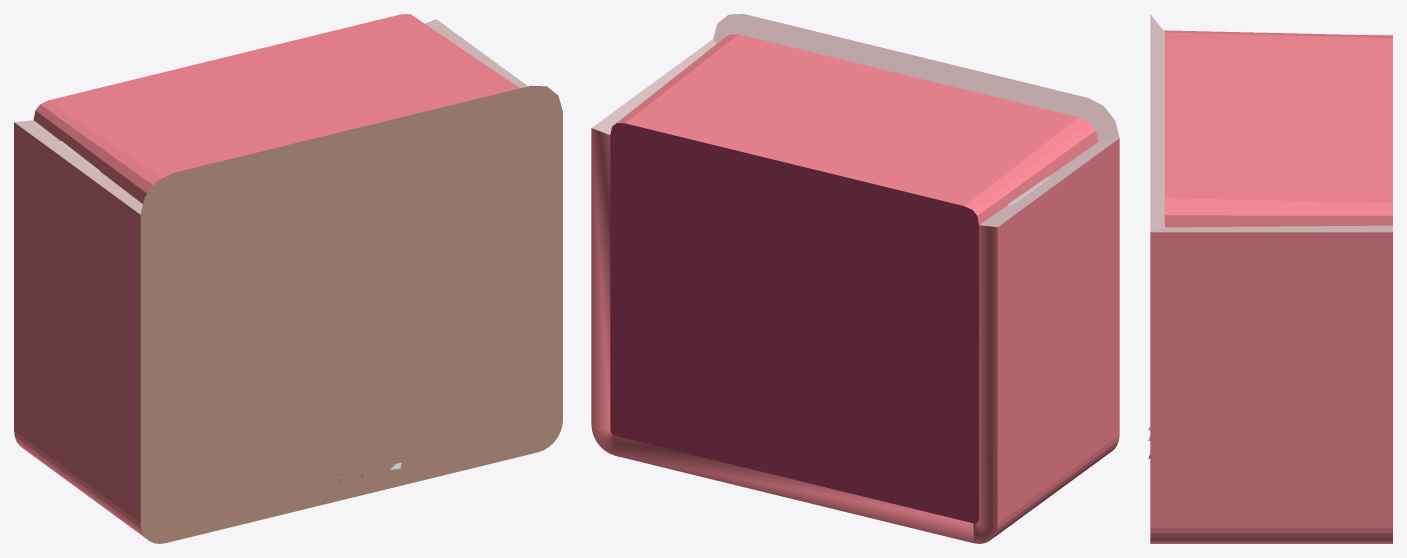
File: Player_Room.fbx
3 views of the same model, side by side, from view 1: azimuth 30°, elevation 25°; view 2: azimuth 150°, elevation 25°; view 3: azimuth 270°, elevation 25° (orthographic). The views are drawn at different scales.
Visible parts, largest first — view 1: PlayerRoom; view 2: PlayerRoom; view 3: PlayerRoom.
Boxes of the visible parts, x1=… form: PlayerRoom: x1=14, y1=14, x2=562, y2=543; PlayerRoom: x1=591, y1=14, x2=1119, y2=543; PlayerRoom: x1=1150, y1=14, x2=1392, y2=543.
Size of the model in its own units: 1202 by 1002 by 630.
